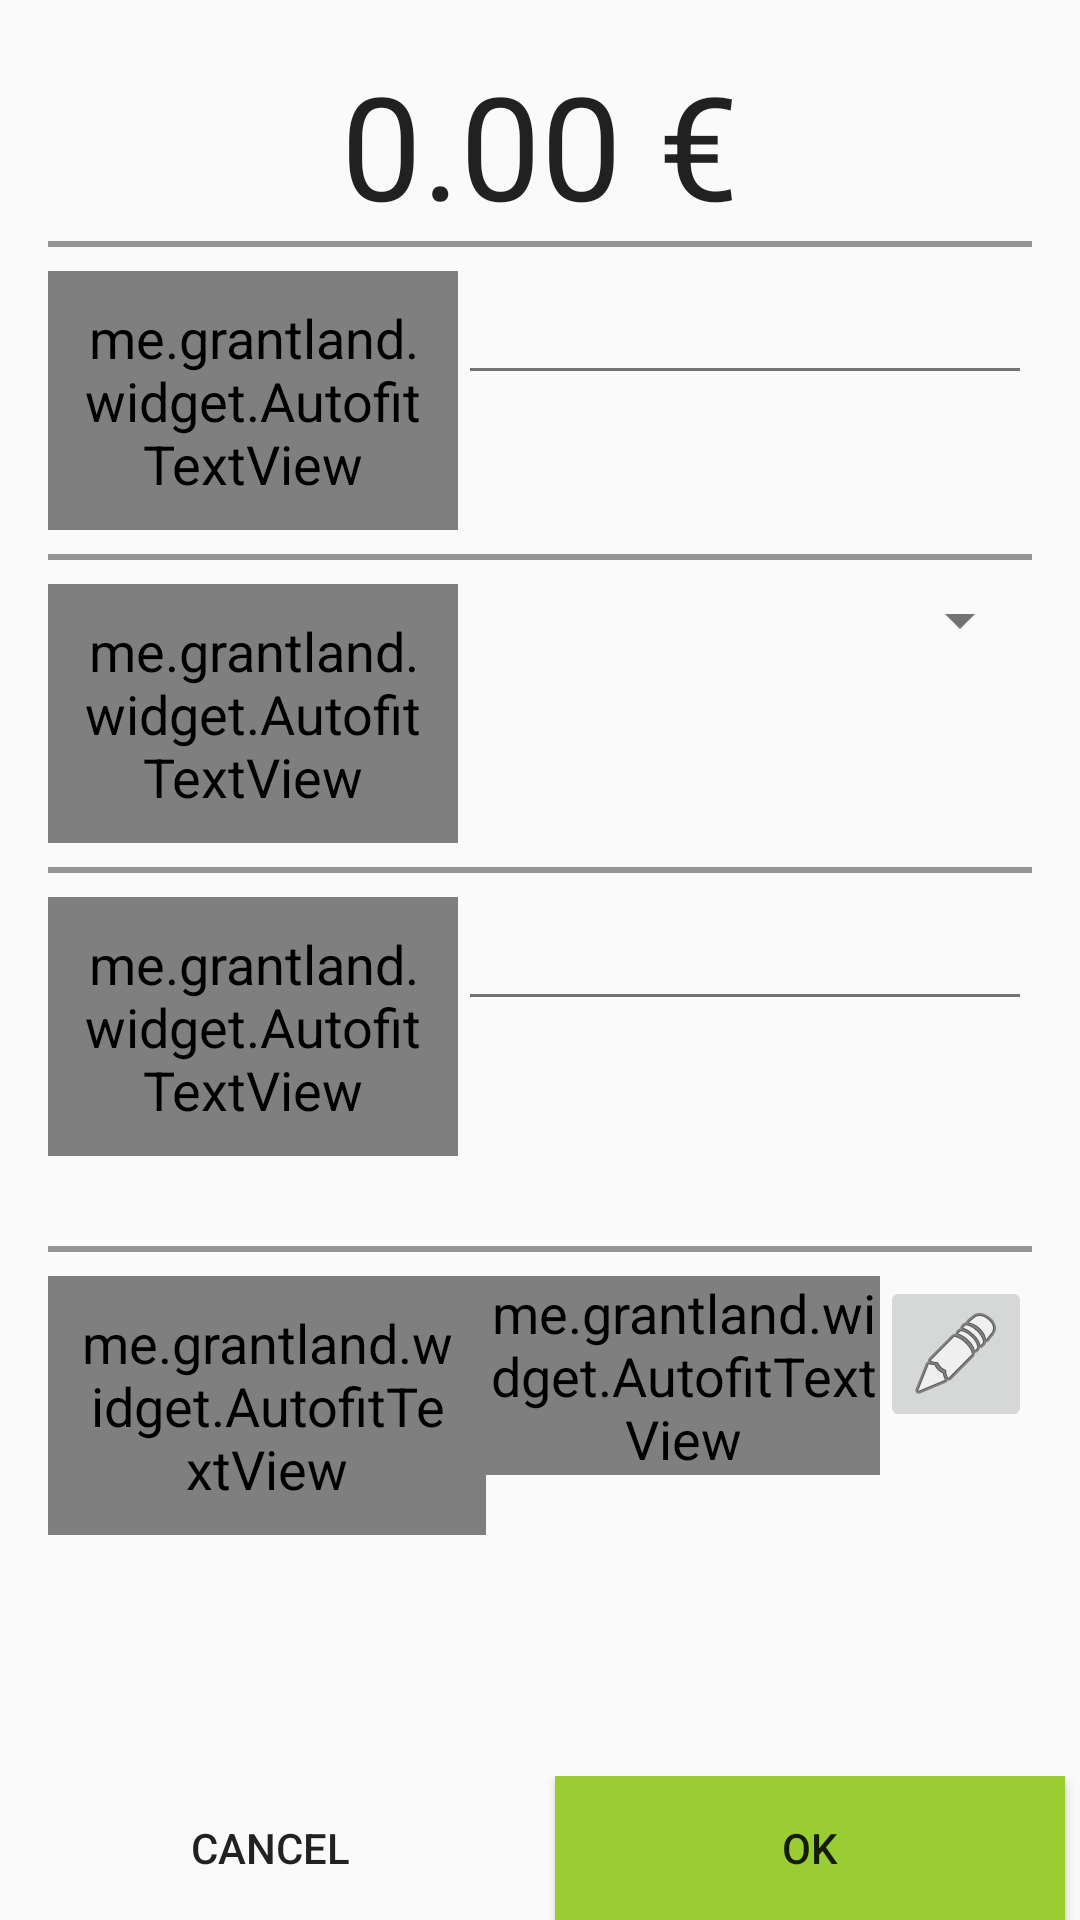

Icon bounding boxes for this 1080 x 1920 phone screenshot, format (x1, y1, x2, y2):
edit: (892, 1294, 1020, 1414)
